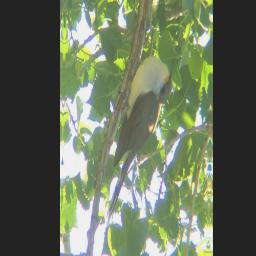Cuckoo: (106, 52, 173, 233)
